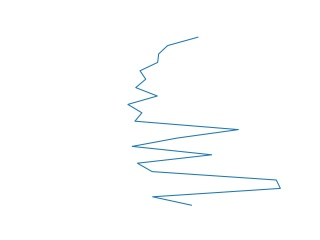crevasseRiverBedLagDeposit: (123, 33, 285, 210)
